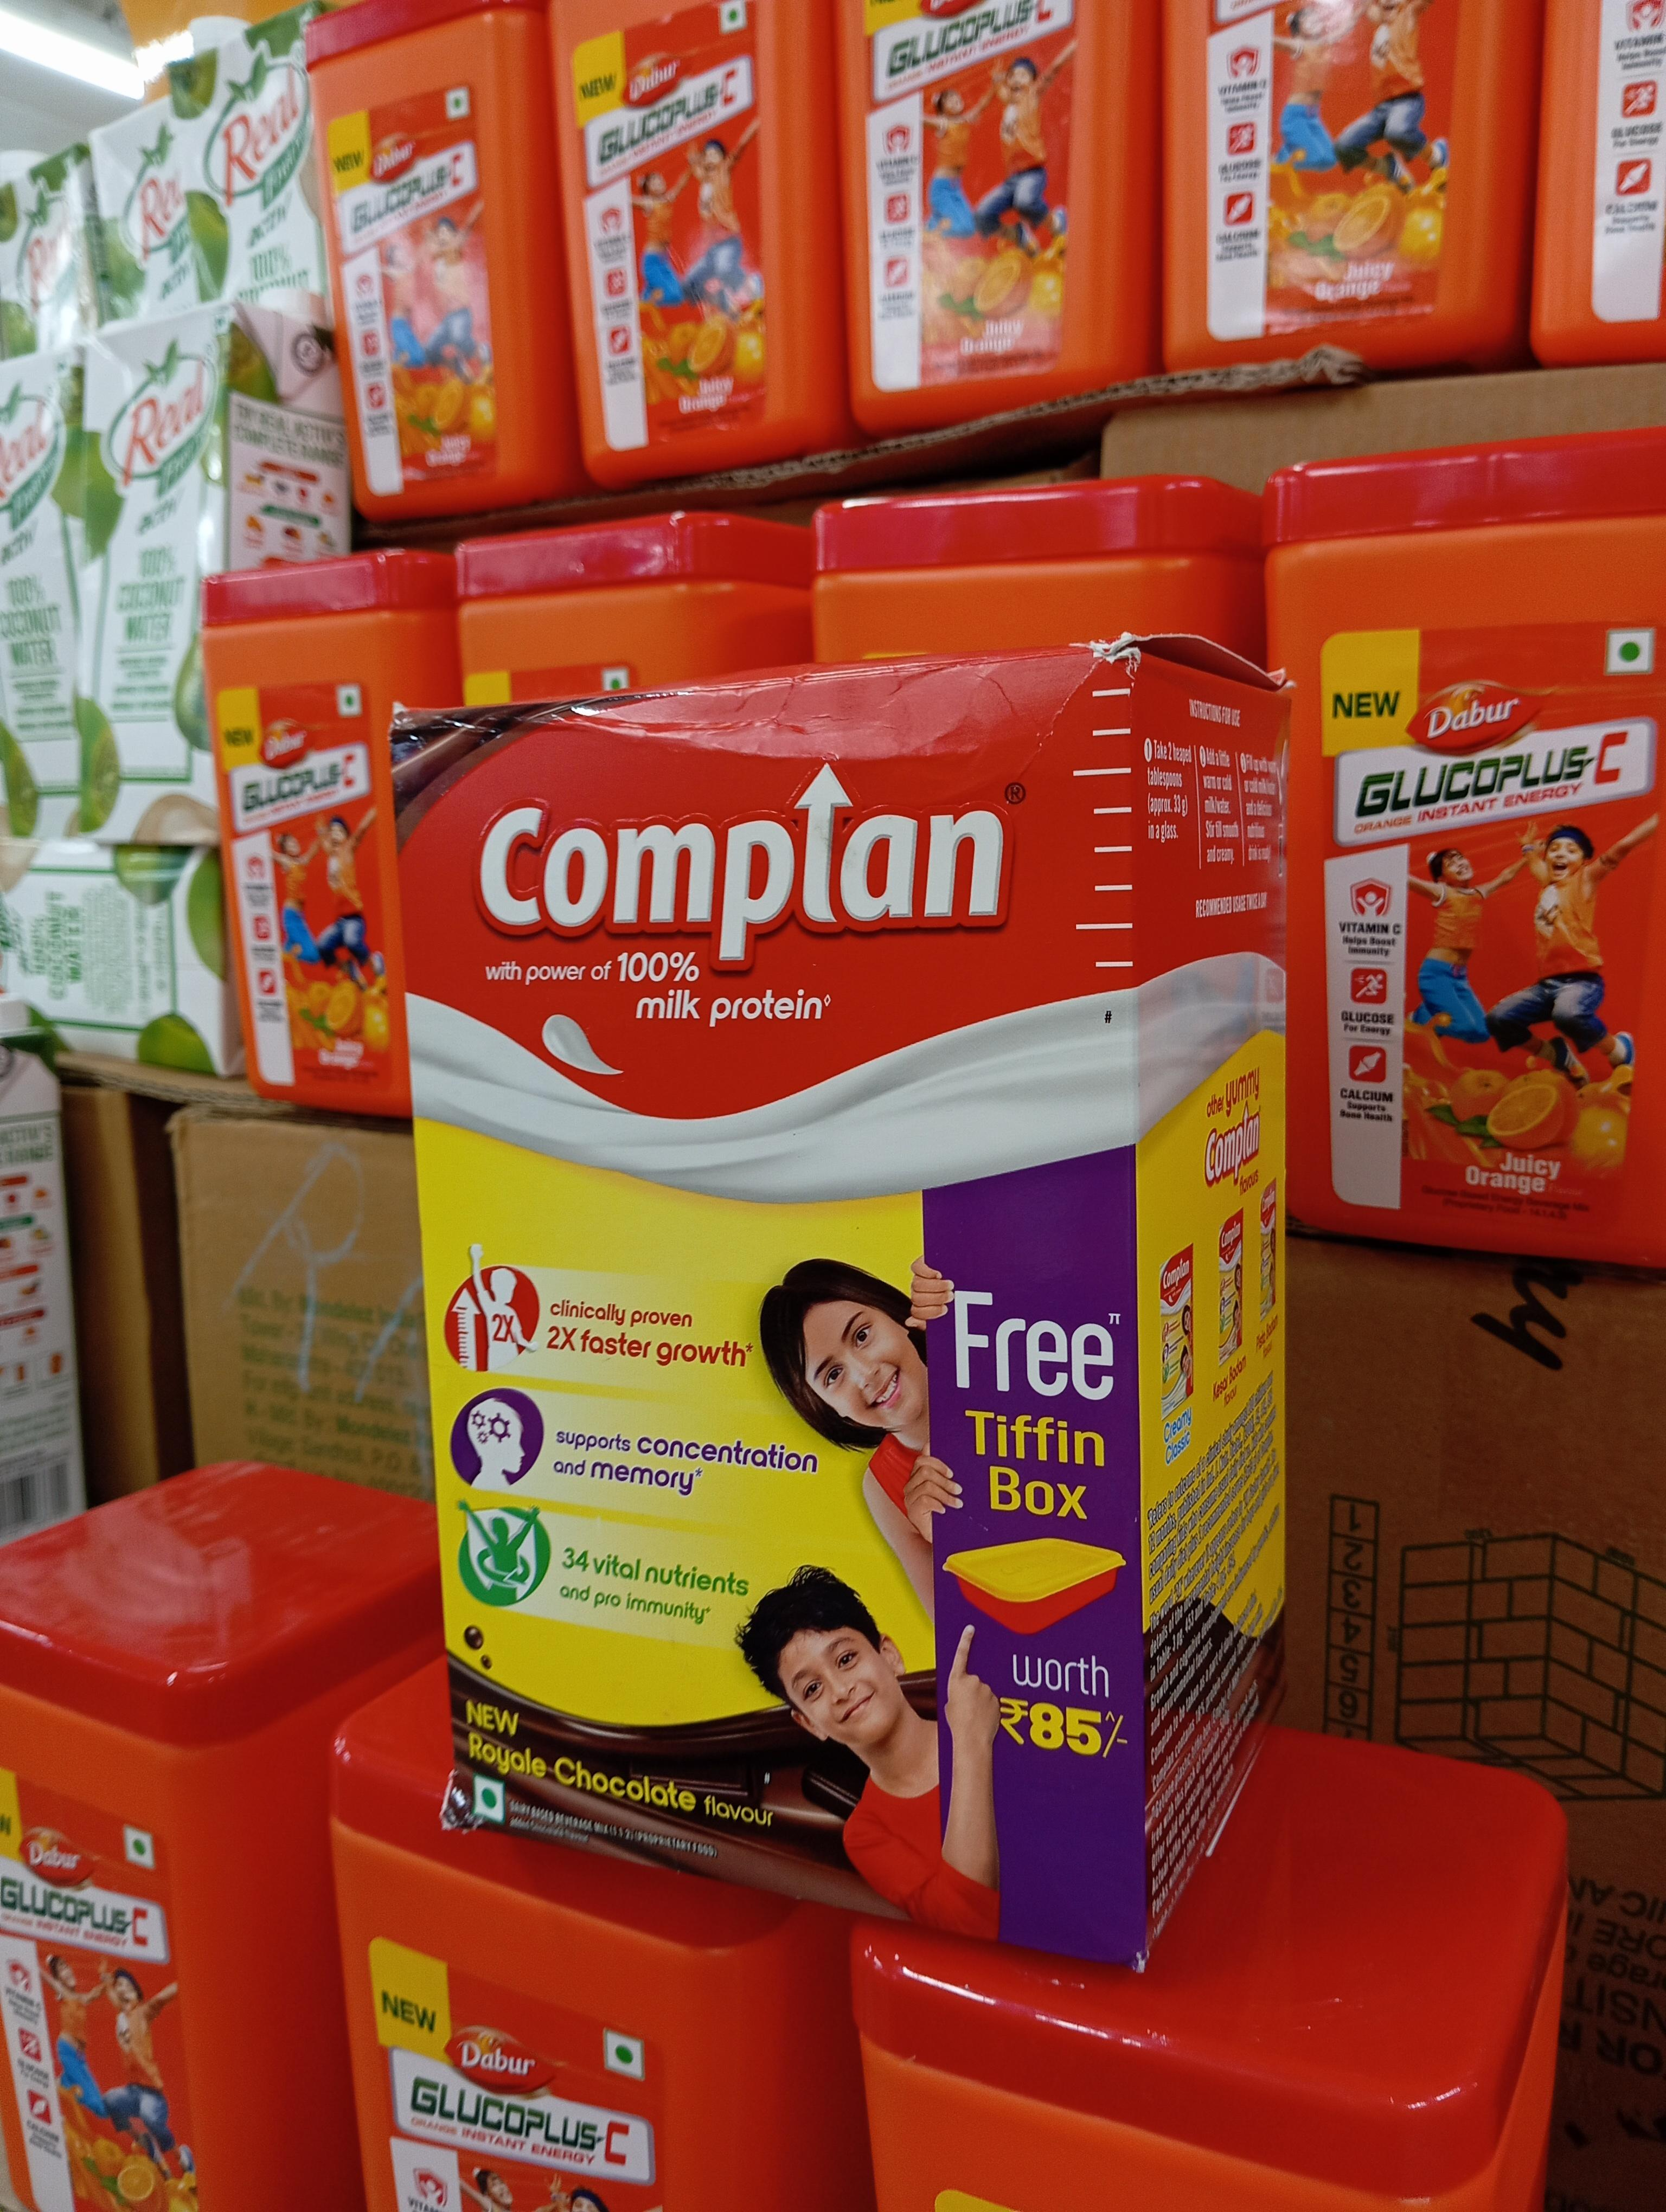COMPLAN_CHOCOLATE_500_GMS_PACK: (418, 689, 1134, 1936)
